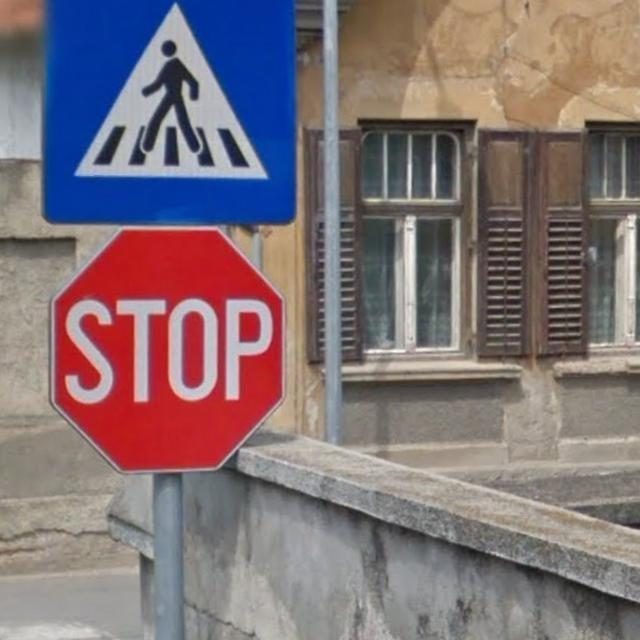info_crosswalk: (43, 0, 299, 225)
prio_stop: (46, 226, 286, 473)
